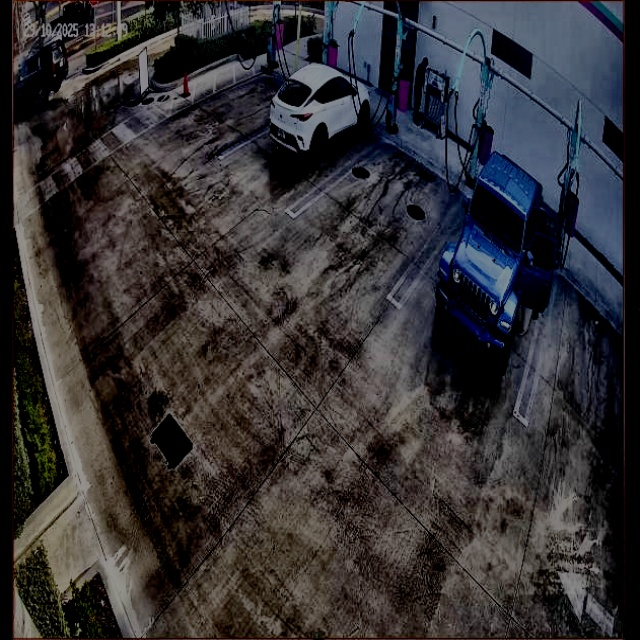Car: (436, 152, 561, 369), (273, 57, 370, 164)
